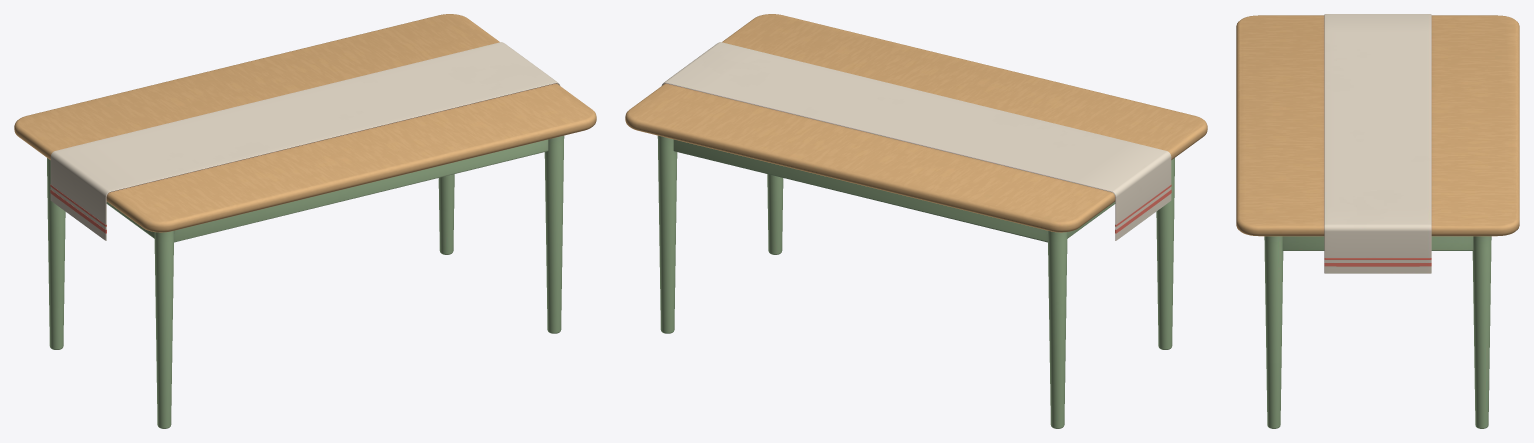
Rendered from dining_table.glb.
3 renders of one model, left to right at view 1: azimuth 30°, elevation 25°; view 2: azimuth 150°, elevation 25°; view 3: azimuth 270°, elevation 25°, orthographic. The views are drawn at different scales.
Parts seen in each view (by area): view 1: dining-table_body; view 2: dining-table_body; view 3: dining-table_body.
Part boxes in pixels (x1=…): dining-table_body: x1=14, y1=14, x2=596, y2=428; dining-table_body: x1=625, y1=14, x2=1207, y2=428; dining-table_body: x1=1236, y1=14, x2=1519, y2=428.
Bounding box in the file's own units: 1.61 × 0.7547 × 0.9.
Materials: 1 (1 with a texture image).
